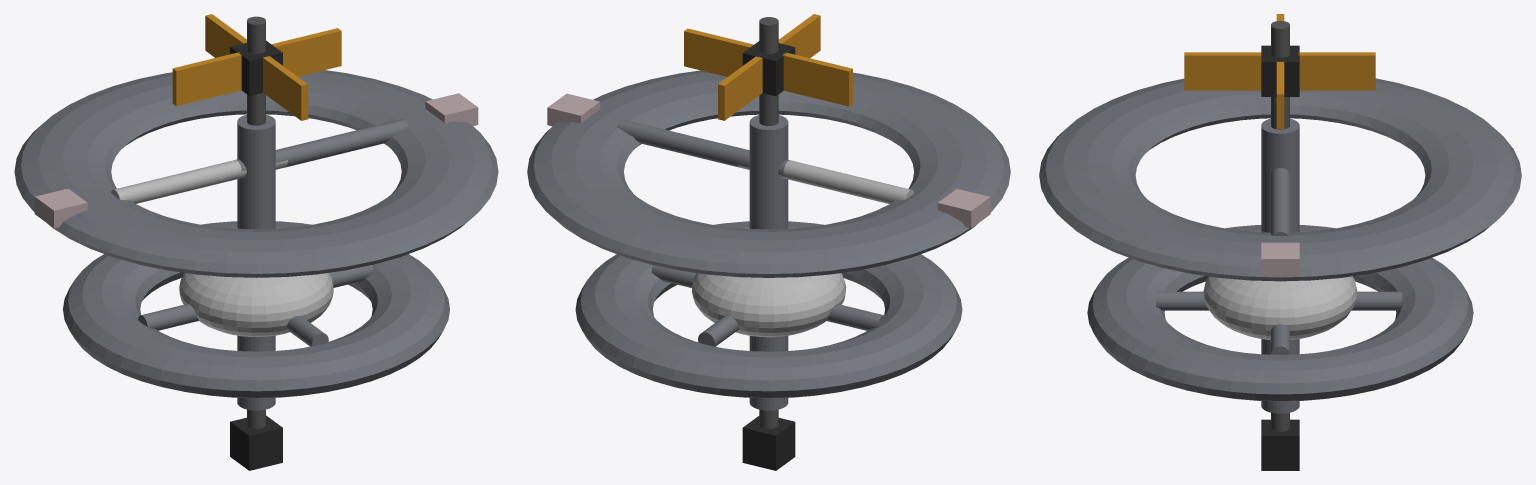
3 renders of one model, left to right at view 1: azimuth 30°, elevation 25°; view 2: azimuth 150°, elevation 25°; view 3: azimuth 270°, elevation 25°, orthographic.
Visible parts, largest first — view 1: Torus.002; view 2: Torus.002; view 3: Torus.002.
Part boxes in pixels (x1,y1,x2,y2): Torus.002: (14, 14, 498, 470); Torus.002: (527, 14, 1010, 470); Torus.002: (1039, 14, 1521, 470).
Size of the model in its own units: 2.53 by 2.5 by 2.5.
